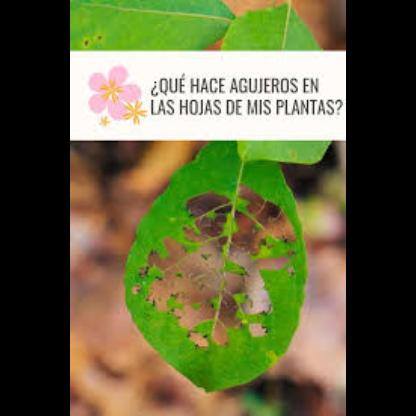agujero: (143, 180, 301, 330), (186, 328, 212, 350), (244, 324, 272, 340)
